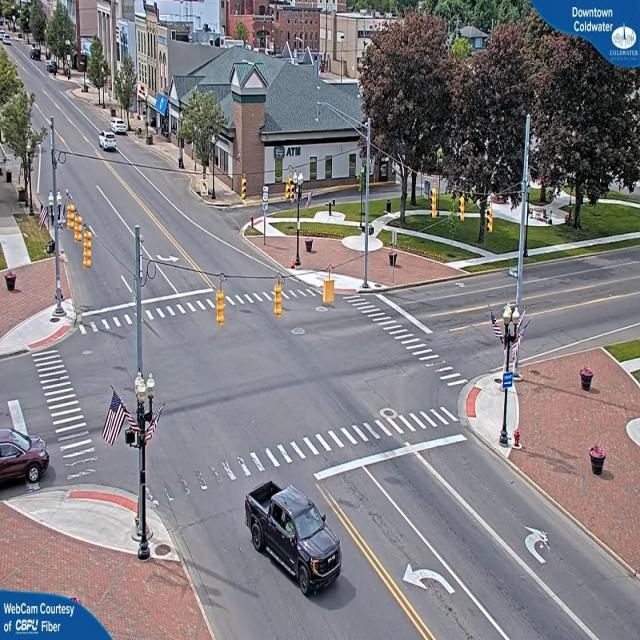car: (244, 480, 339, 606), (0, 427, 48, 498), (100, 131, 118, 152), (112, 120, 129, 137)
